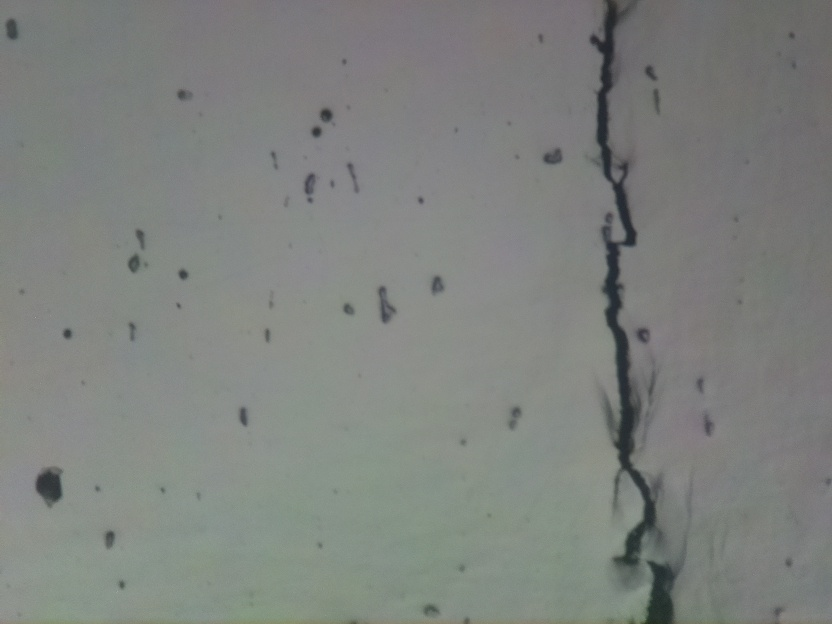crack: (592, 0, 680, 622)
